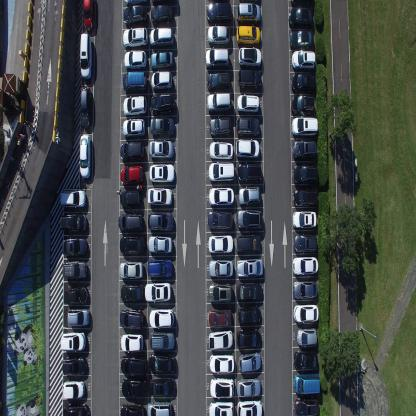car: (122, 25, 148, 50), (79, 32, 92, 80), (236, 208, 263, 231), (206, 91, 233, 114), (147, 352, 175, 374), (207, 160, 235, 182), (120, 139, 145, 163), (236, 282, 262, 305), (207, 283, 233, 306), (148, 162, 174, 185), (79, 133, 92, 179), (122, 93, 148, 116), (122, 70, 148, 93), (204, 45, 230, 68), (294, 374, 321, 396), (235, 2, 262, 24), (236, 257, 264, 278), (291, 115, 319, 136), (236, 137, 260, 161), (150, 91, 174, 115), (149, 307, 174, 330), (120, 308, 145, 331), (292, 164, 317, 187), (290, 71, 315, 94), (235, 232, 261, 254), (209, 186, 235, 208), (60, 330, 86, 352), (146, 256, 172, 278), (119, 234, 145, 256), (147, 186, 173, 208), (60, 188, 86, 210), (288, 6, 314, 28), (120, 355, 147, 376), (144, 280, 171, 301), (147, 210, 174, 231), (293, 138, 317, 161), (236, 378, 261, 400), (209, 378, 234, 400), (208, 328, 233, 350), (236, 328, 261, 350), (208, 232, 233, 254), (63, 284, 88, 306), (62, 258, 87, 280), (119, 258, 144, 280), (149, 138, 174, 160), (237, 162, 262, 184), (237, 68, 262, 90), (293, 351, 319, 372), (60, 212, 86, 233), (292, 279, 318, 300), (150, 116, 176, 137), (288, 28, 314, 49), (209, 115, 232, 138), (122, 116, 145, 139), (238, 45, 261, 68), (150, 328, 174, 350), (236, 306, 260, 328), (208, 209, 232, 231), (293, 232, 317, 254), (208, 257, 233, 278), (118, 212, 143, 233), (290, 49, 315, 70), (149, 27, 174, 48), (62, 236, 88, 256), (292, 256, 318, 276), (121, 378, 147, 398), (238, 352, 261, 374), (120, 164, 143, 186), (236, 93, 259, 115), (207, 24, 230, 46), (150, 3, 172, 26), (209, 352, 233, 373), (148, 234, 172, 255), (236, 115, 260, 136), (123, 48, 147, 69), (206, 70, 230, 91), (291, 93, 315, 114), (293, 304, 318, 324), (293, 190, 318, 210), (149, 376, 174, 396), (236, 25, 261, 45), (80, 84, 91, 129), (236, 398, 263, 416), (120, 332, 143, 353), (61, 379, 84, 400), (66, 308, 90, 328), (209, 140, 233, 160), (292, 210, 316, 230), (123, 4, 147, 24), (62, 356, 87, 375), (296, 328, 318, 349), (120, 188, 141, 210), (150, 69, 172, 90), (208, 308, 231, 328), (120, 283, 144, 302), (294, 397, 319, 415), (207, 2, 232, 20), (238, 186, 260, 206), (150, 50, 173, 69), (146, 400, 172, 416), (208, 400, 235, 415), (82, 0, 94, 31), (62, 403, 89, 415), (121, 403, 145, 415)
